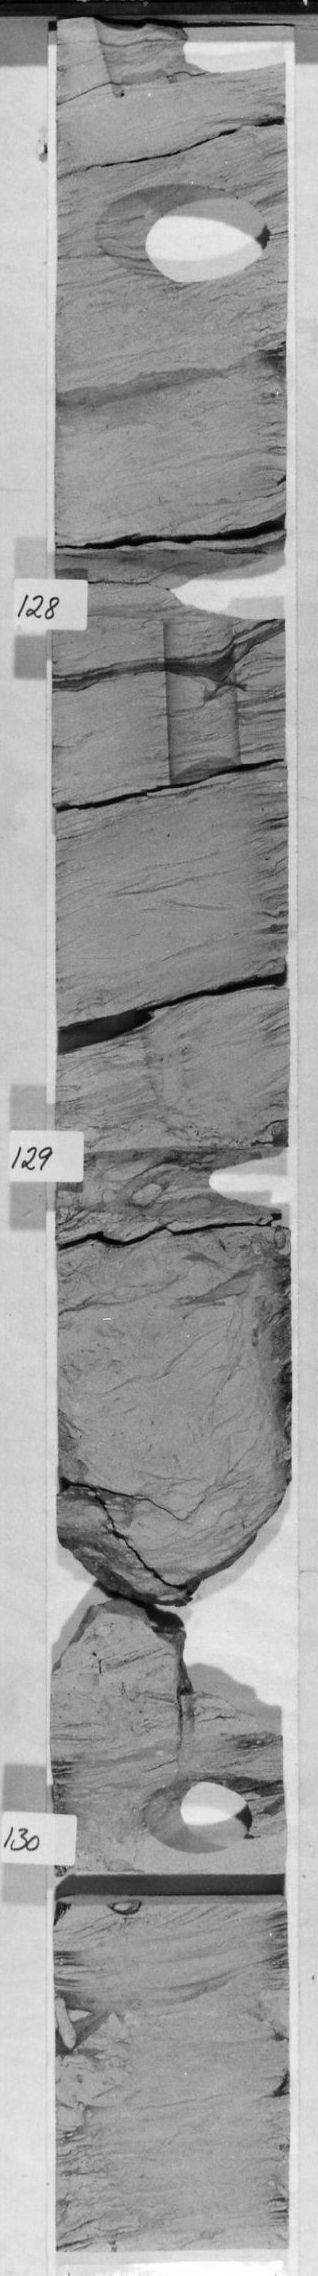hplug: (54, 1147, 279, 1227), (123, 546, 285, 629), (132, 1772, 269, 1854)
scal: (89, 177, 277, 287)
vplug: (150, 615, 253, 787), (91, 19, 186, 103)
